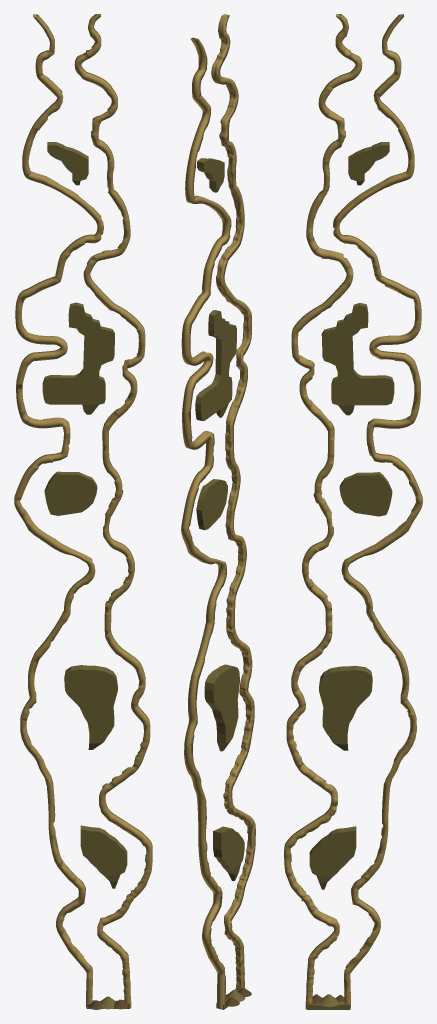
Rendered from Mapa.fbx.
3 views of the same model, side by side, from view 1: azimuth 90°, elevation 25°; view 2: azimuth 150°, elevation 25°; view 3: azimuth 270°, elevation 25° (orthographic).
Parts seen in each view (by area): view 1: BézierCurve.001, BézierCurve, Cube.005, Cube.003, Cube.004, Cube.002, Cube.006; view 2: BézierCurve.001, BézierCurve, Cube.005, Cube.003, Cube.002, Cube.004, Cube.006; view 3: BézierCurve.001, BézierCurve, Cube.005, Cube.003, Cube.004, Cube.002, Cube.006.
Boxes of the visible parts, x1,y1,x2,y2 form: BézierCurve.001: (14, 14, 103, 1007); BézierCurve: (74, 14, 152, 1008); Cube.005: (42, 302, 114, 414); Cube.003: (64, 665, 117, 749); Cube.004: (44, 471, 97, 515); Cube.002: (80, 825, 127, 888); Cube.006: (47, 142, 88, 185); BézierCurve.001: (181, 37, 231, 1008); BézierCurve: (211, 14, 255, 990); Cube.005: (195, 310, 236, 420); Cube.003: (204, 664, 239, 751); Cube.002: (213, 826, 244, 880); Cube.004: (196, 479, 227, 530); Cube.006: (197, 158, 224, 192); BézierCurve.001: (333, 14, 422, 1008); BézierCurve: (284, 14, 362, 1009); Cube.005: (321, 303, 394, 415); Cube.003: (319, 665, 372, 750); Cube.004: (339, 472, 392, 516); Cube.002: (309, 826, 356, 889); Cube.006: (348, 142, 389, 185).
Bounding box in the file's own units: 732 × 33860 × 4291.
